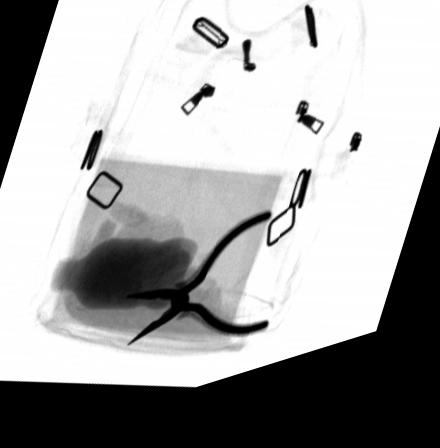Pliers: (118, 226, 275, 358)
